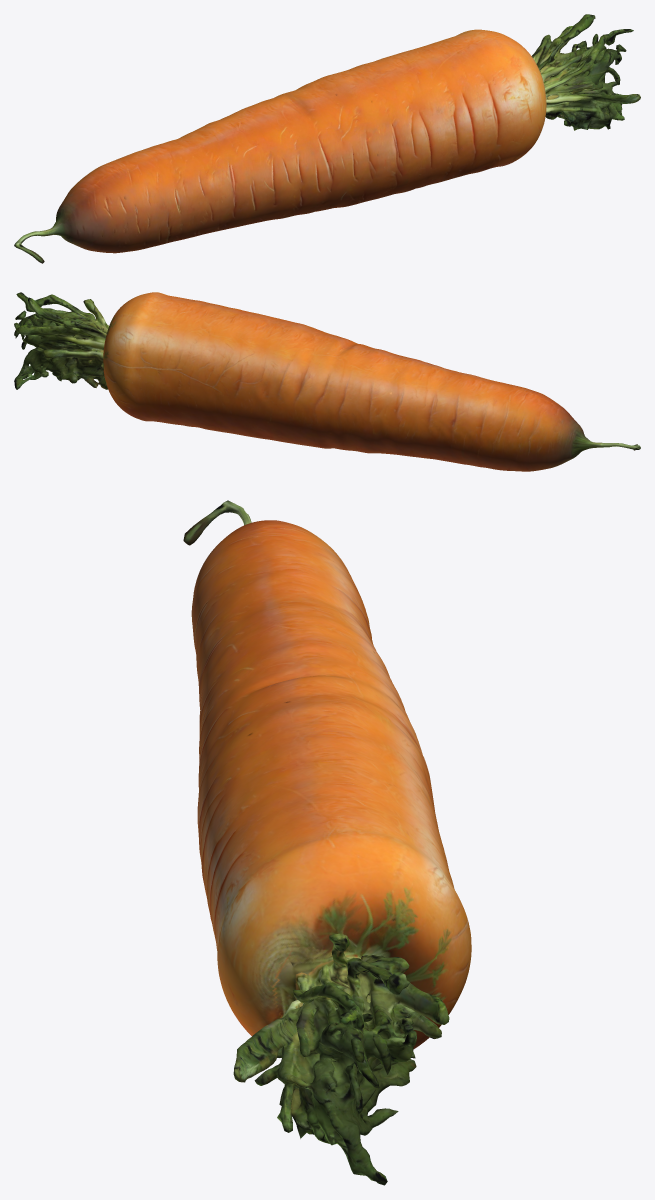
Rendered from A_highly_realistic_3D_0421090521_refine.glb.
The picture shows the model from 3 angles, top to bottom: view 1: azimuth 30°, elevation 25°; view 2: azimuth 150°, elevation 25°; view 3: azimuth 270°, elevation 25°; orthographic projection. The views are drawn at different scales.
Bounding box in the file's own units: 2.02 × 0.3783 × 0.423.
Materials: 1 (1 with a texture image).
